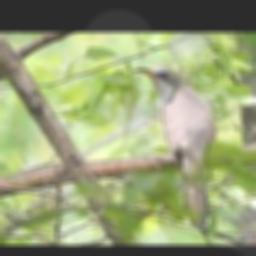Cuckoo: (133, 68, 217, 229)
